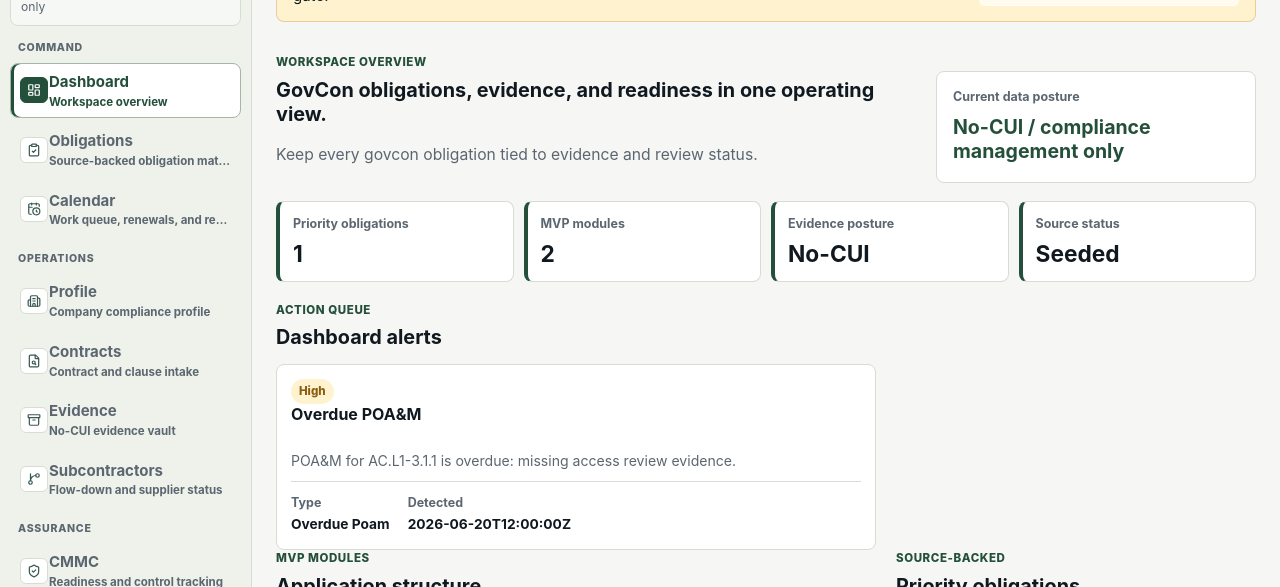
App › TC-18.1 starts clause extraction from contract document metadata
The width and height of the screenshot is (1280, 587).
(page scrolled)
Step 1. Click the link "Contracts Contract and clause intake" → (110, 360), box [20,342,199,379]
(page scrolled)
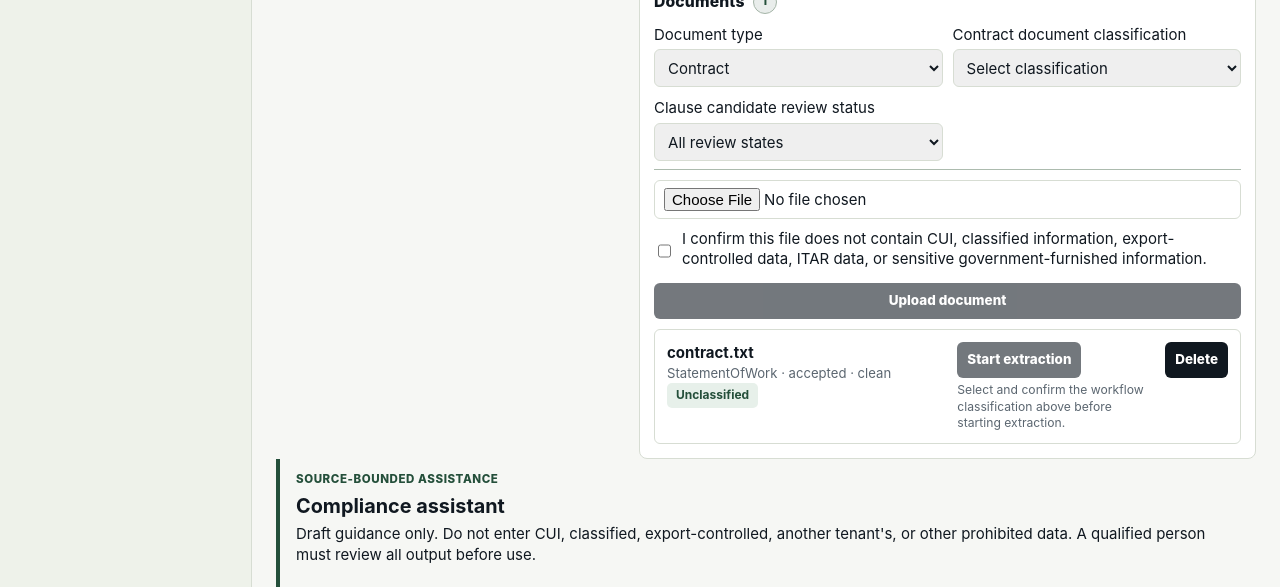
Result: the button "Start extraction" is disabled
Step 2. Click the button "Start extraction" → (1019, 360), box [957,342,1081,378]
(page scrolled)
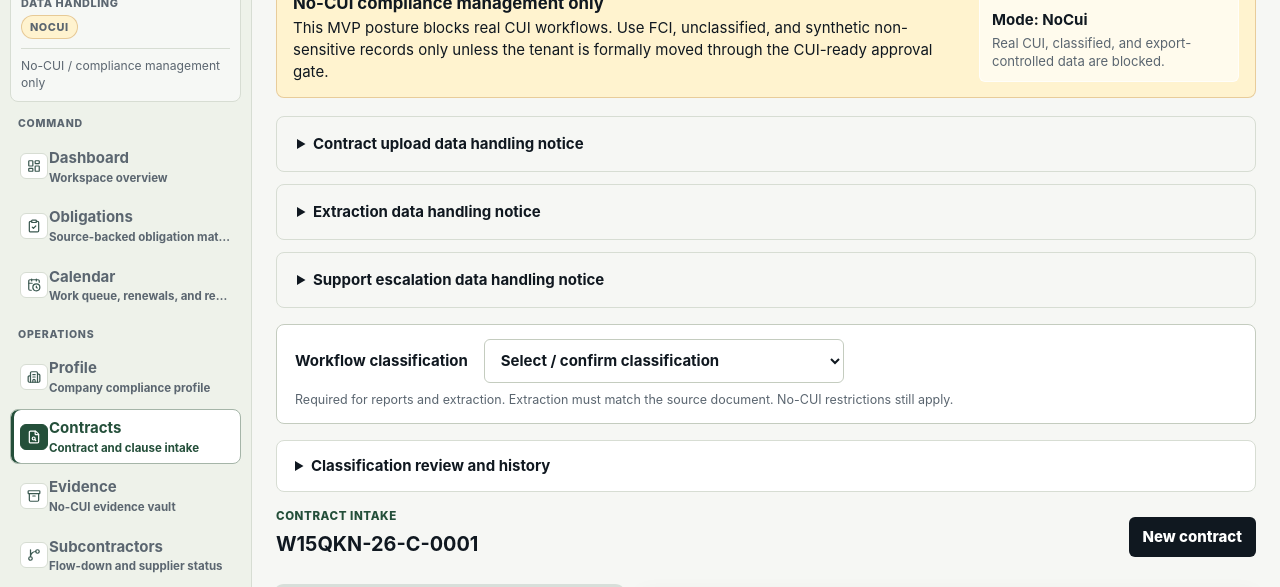
Step 3. Select "Unclassified" in the dropdown labelled "Workflow classification" → (664, 360), box [484,338,844,382]
(page scrolled)
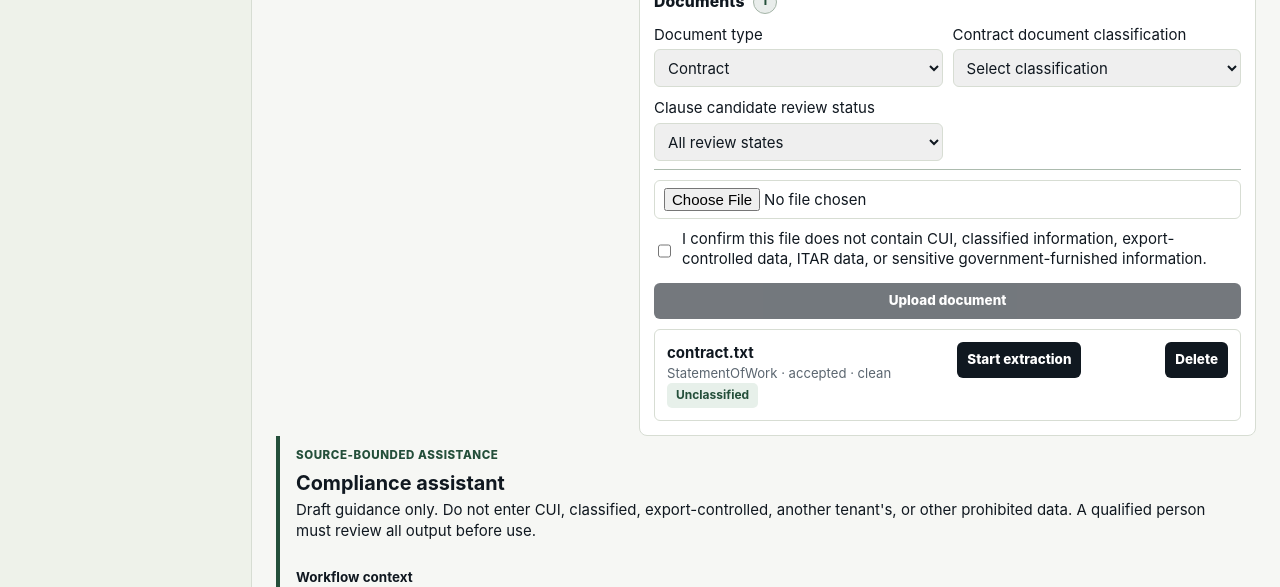
Result: the button "Start extraction" is enabled
Step 4. Click the button "Start extraction" → (1019, 360), box [957,342,1081,378]
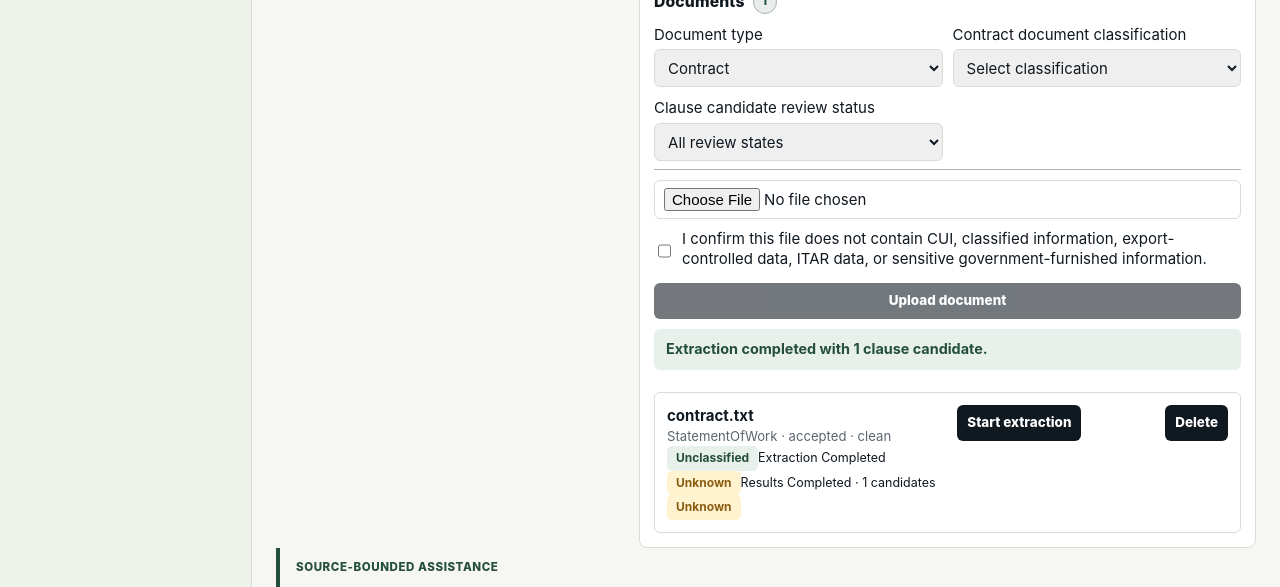
Result: the text "Extraction Queued" is shown at [667,450,886,490]
Result: the text "Extraction completed with 1 clause candidate." is shown at [654,329,1241,370]
